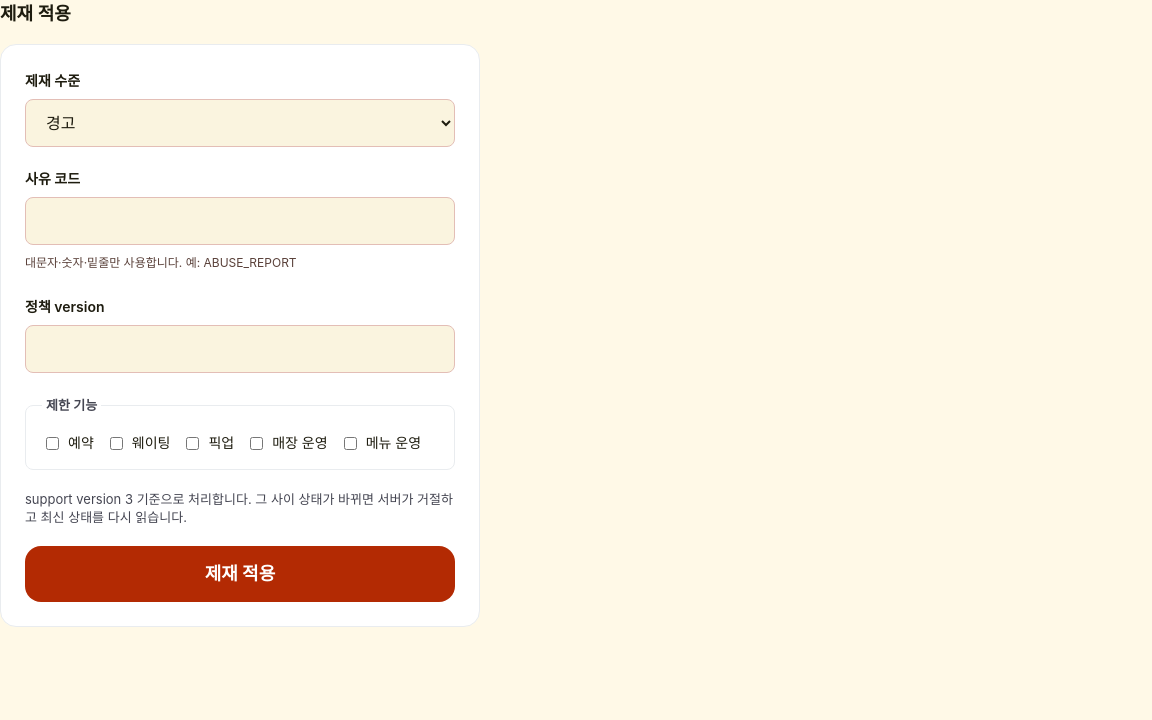
Test case: 회원 제재 적용 › version 충돌이면 최신 상태를 다시 읽게 한다
Type "ABUSE_REPORT" into the field labelled "사유 코드".
click(240, 221); type("ABUSE_REPORT")  # box 25,197 -> 455,245
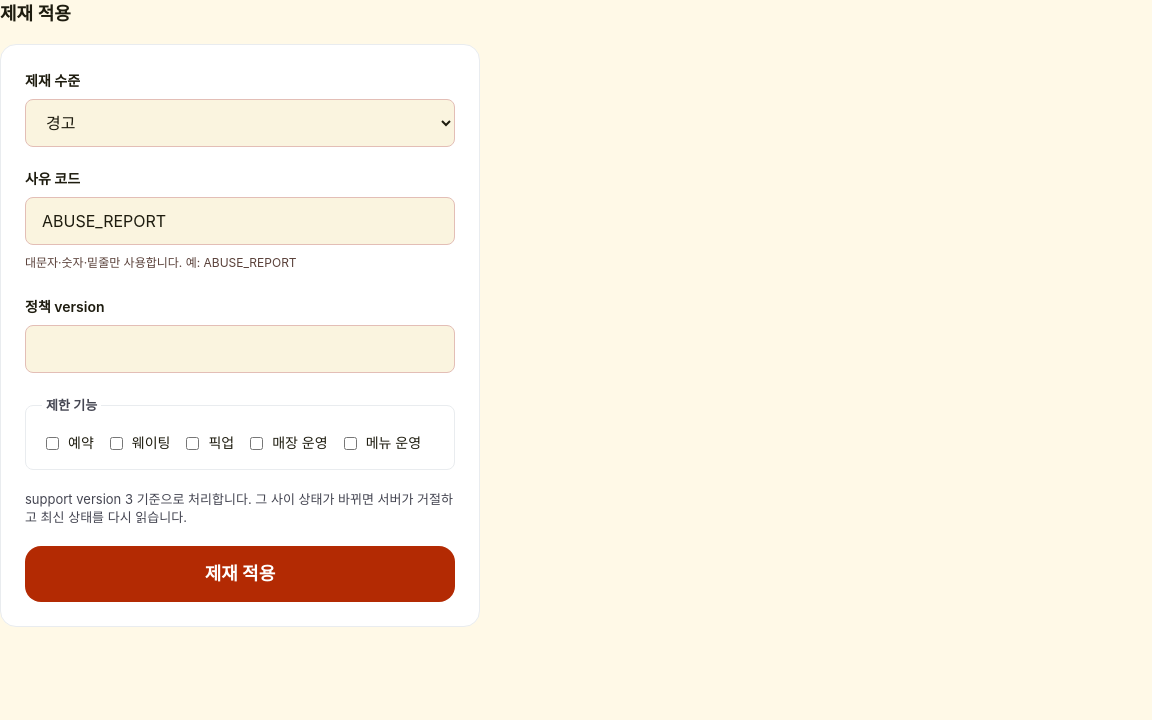
Type "SANCTION_POLICY_V1" into the field labelled "정책 version".
click(240, 349); type("SANCTION_POLICY_V1")  # box 25,325 -> 455,373
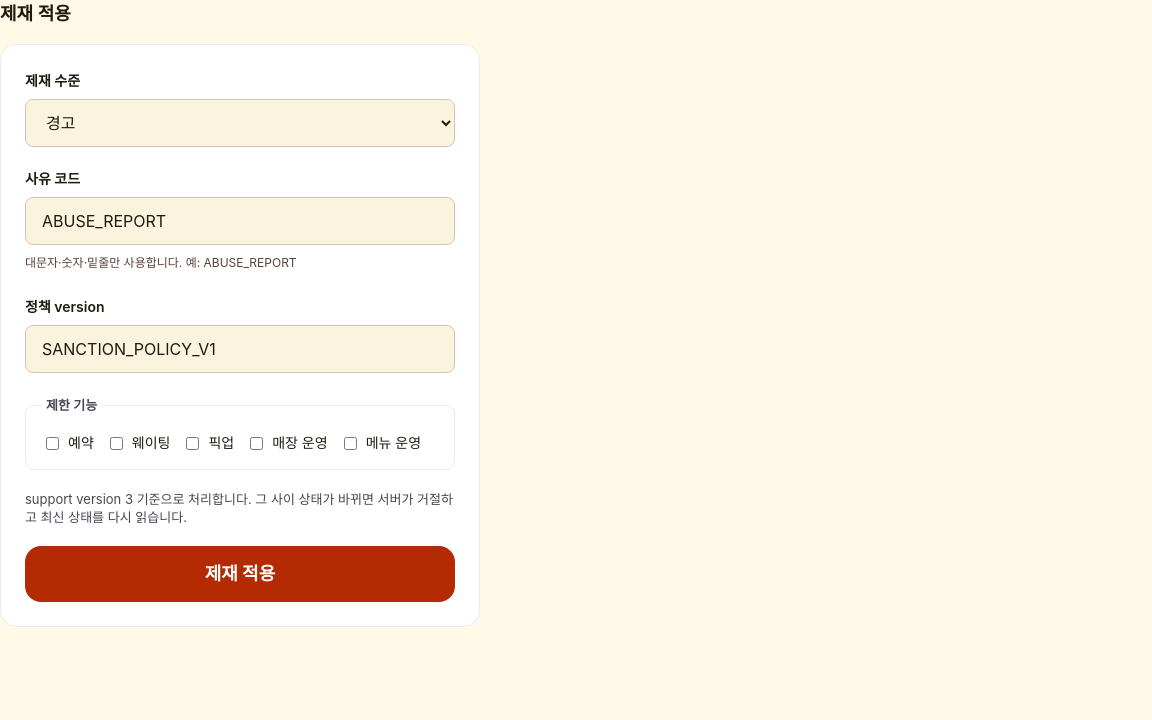
Click the button "제재 적용".
click(240, 574)  # box 25,546 -> 455,602
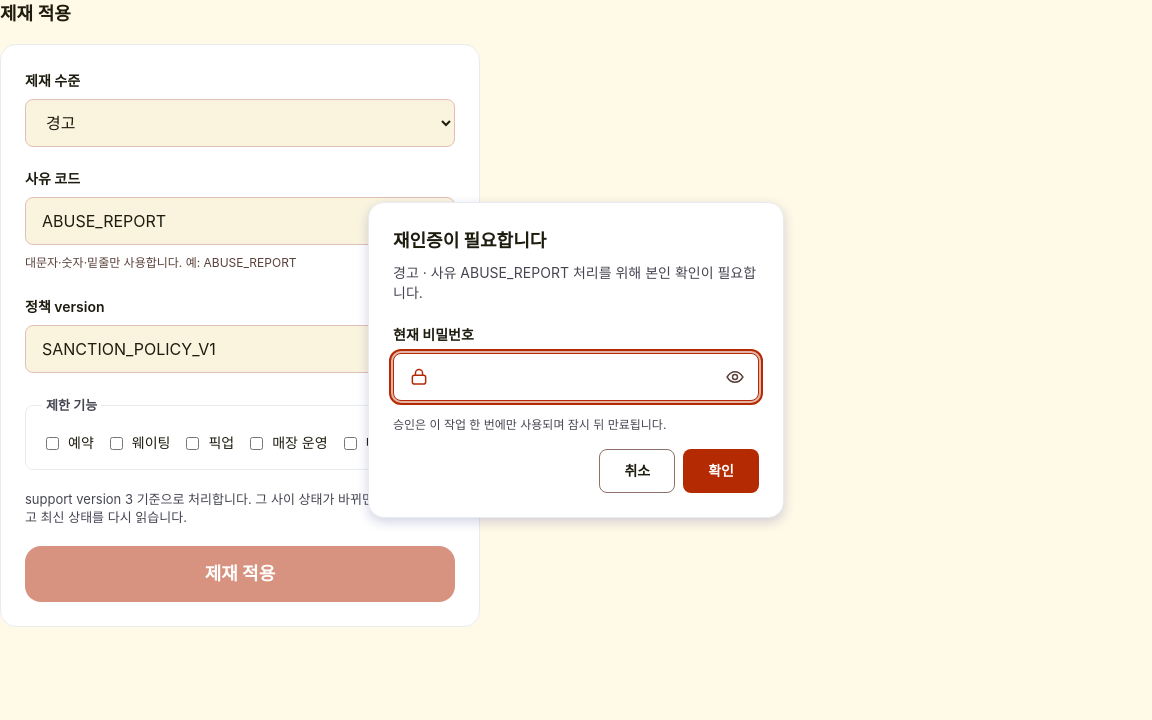
Result: the dialog "재인증이 필요합니다" is shown at 368,202 -> 784,518
Type "Miriyum1!" into the password field labelled "현재 비밀번호".
click(576, 377); type("Miriyum1!")  # box 393,353 -> 759,401
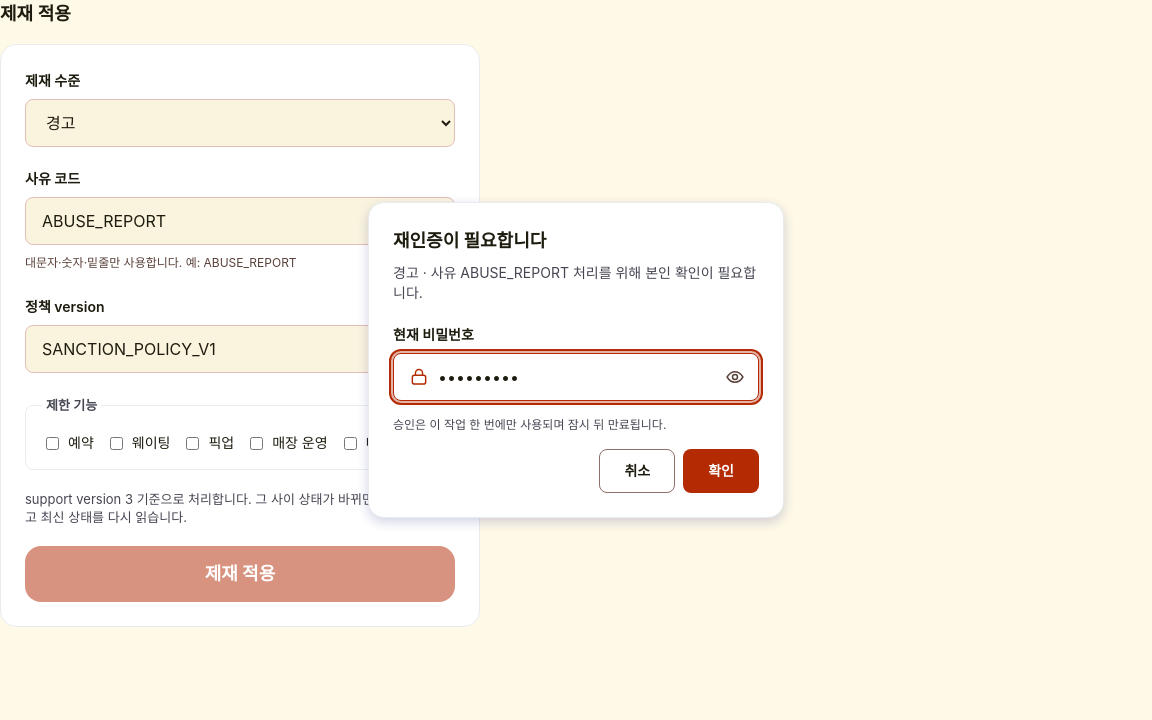
Click the button "확인".
click(721, 471)  # box 683,449 -> 759,493
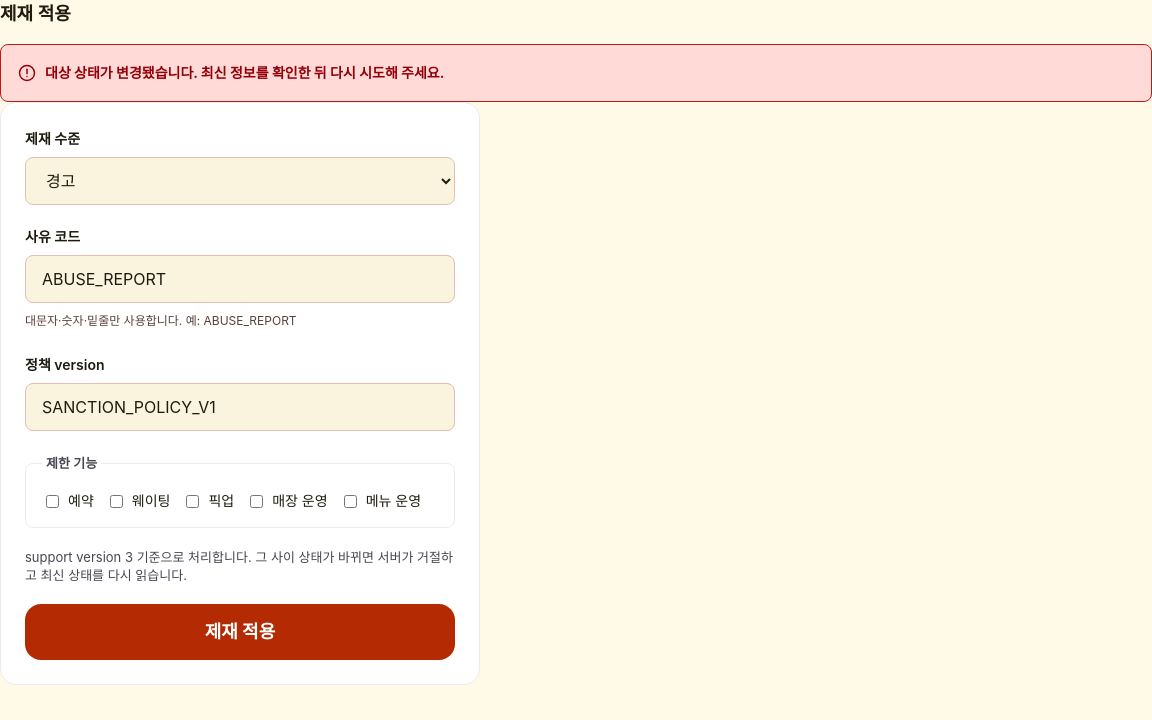
Result: the text "대상 상태가 변경됐습니다. 최신 정보를 확인한 뒤 다시 시도해 주세요." is shown at 45,64 -> 444,81
